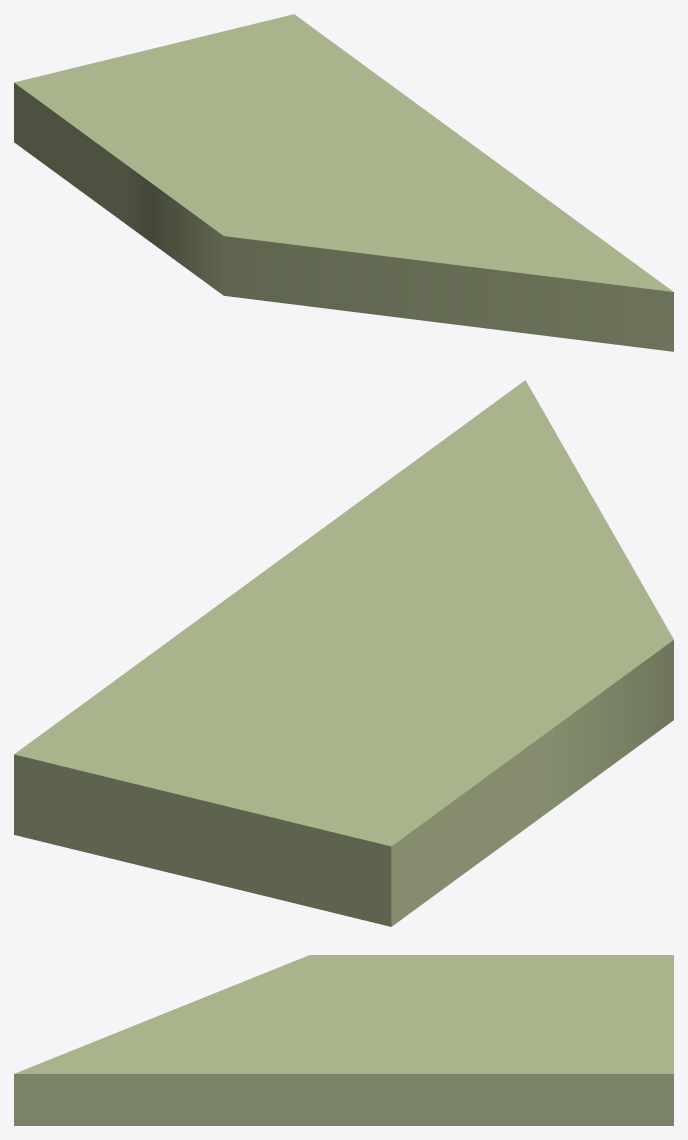
Rendered from ground_5.gltf.
The picture shows the model from 3 angles, top to bottom: view 1: azimuth 30°, elevation 25°; view 2: azimuth 150°, elevation 25°; view 3: azimuth 270°, elevation 25°; orthographic projection. The views are drawn at different scales.
Parts seen in each view (by area): view 1: traumacenter; view 2: traumacenter; view 3: traumacenter.
Part boxes in pixels (x1,y1,x2,y2): traumacenter: (14, 14, 673, 351); traumacenter: (14, 380, 673, 926); traumacenter: (14, 955, 673, 1125).
Size of the model in its own units: 11.97 by 2.44 by 28.09.
